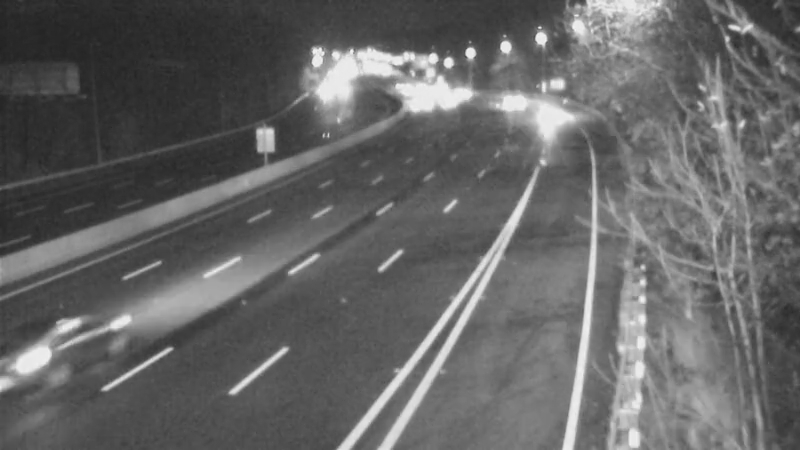vehicle: (1, 313, 98, 423), (484, 74, 534, 124), (393, 83, 443, 133), (528, 87, 578, 137)
